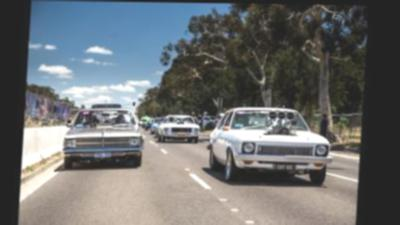License_Plate: (272, 162, 296, 172), (93, 151, 112, 159)
